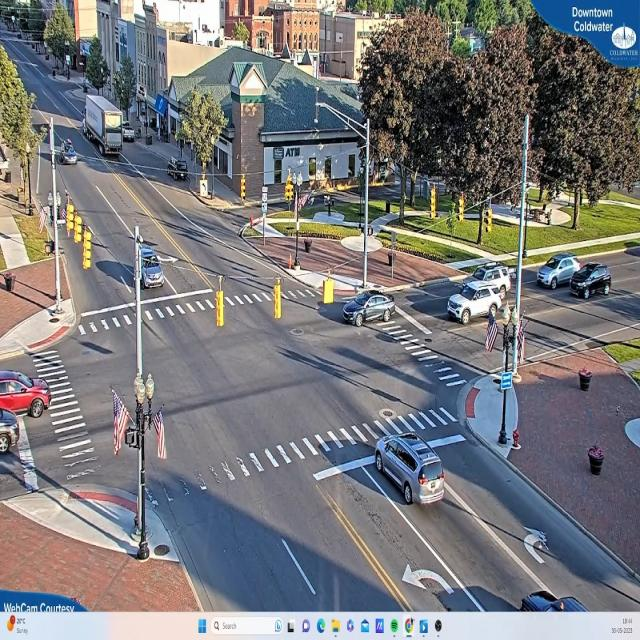car: (373, 434, 445, 506), (445, 286, 506, 326), (0, 372, 50, 419), (343, 292, 395, 328), (463, 265, 514, 298), (569, 262, 611, 300), (536, 253, 580, 289), (520, 593, 590, 613), (140, 243, 165, 293), (122, 125, 137, 142)
truck: (84, 96, 125, 158)
